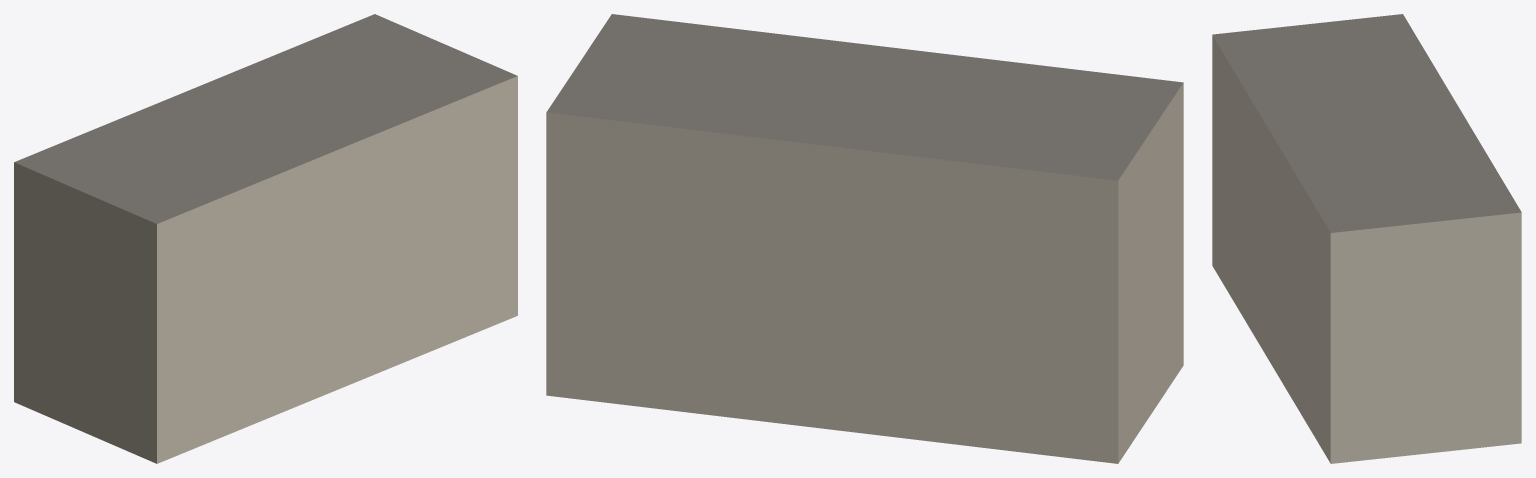
3 views of the same model, side by side, from view 1: azimuth 30°, elevation 25°; view 2: azimuth 150°, elevation 25°; view 3: azimuth 270°, elevation 25° (orthographic). The views are drawn at different scales.
Visible parts, largest first — view 1: HP-w1286965209; view 2: HP-w1286965209; view 3: HP-w1286965209.
Part boxes in pixels (left/top/right/bottom): HP-w1286965209: left=14, top=14, right=517, bottom=463; HP-w1286965209: left=546, top=14, right=1183, bottom=463; HP-w1286965209: left=1212, top=14, right=1521, bottom=463.
Bounding box in the file's own units: 36.62 × 18 × 21.88.
